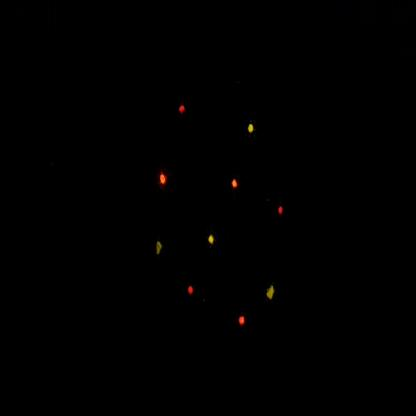PE: (206, 228, 220, 257), (245, 118, 260, 143)
PET: (183, 274, 201, 310), (275, 202, 289, 225), (176, 100, 190, 120)
PP: (260, 275, 281, 315), (149, 230, 169, 272)
pvc: (156, 164, 175, 196), (236, 309, 250, 336), (231, 172, 244, 195)
